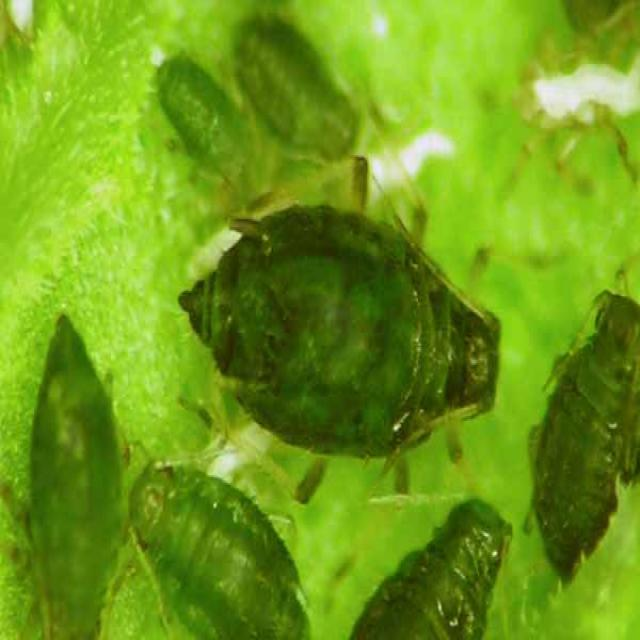Aphid-Grown-: (137, 150, 538, 479)
